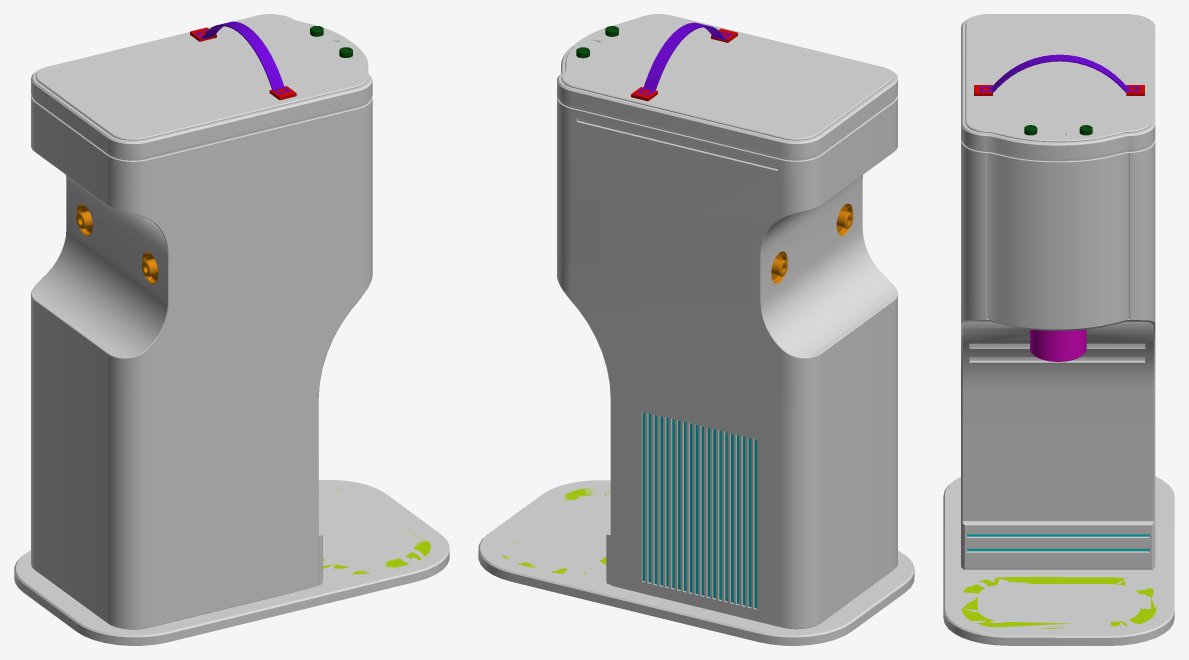
File: machine.fbx
3 renders of one model, left to right at view 1: azimuth 30°, elevation 25°; view 2: azimuth 150°, elevation 25°; view 3: azimuth 270°, elevation 25°, orthographic. The views are drawn at different scales.
Visible parts, largest first — view 1: Machine; view 2: Machine; view 3: Machine.
Boxes of the visible parts, box(x1,y1,x2,y2) form: Machine: box(14, 14, 449, 645); Machine: box(478, 14, 914, 645); Machine: box(943, 14, 1174, 645).
Bounding box in the file's own units: 124 × 174 × 71.39.
